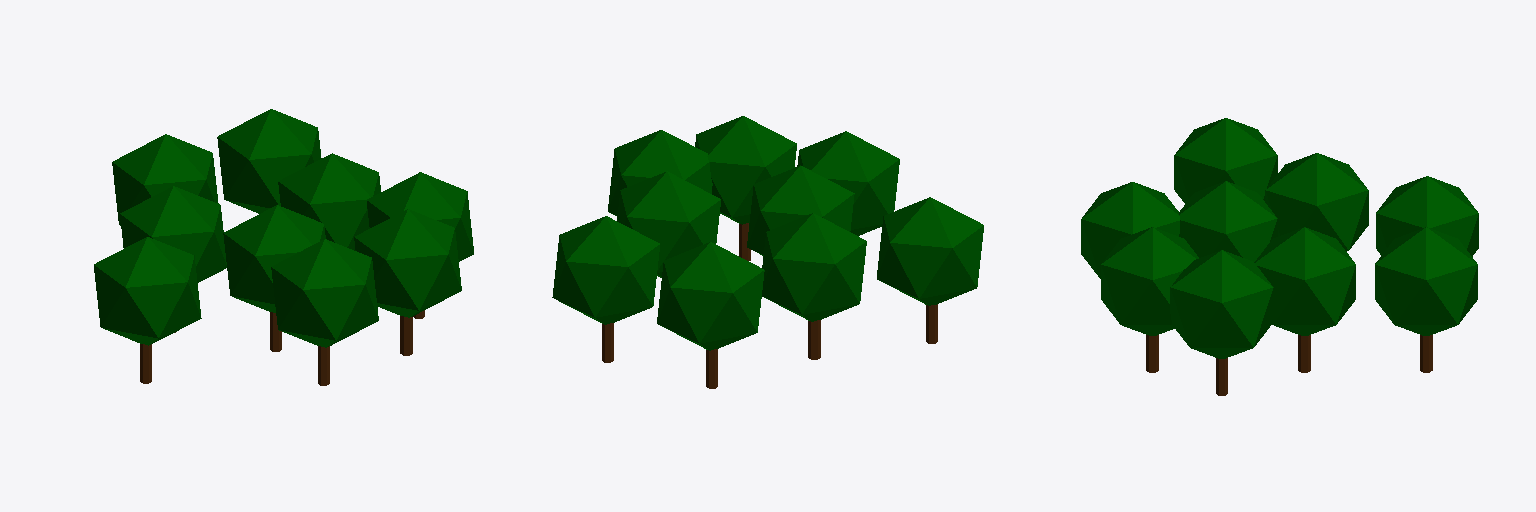
Rendered from Low-poly-tree.obj.
3 views of the same model, side by side, from view 1: azimuth 30°, elevation 25°; view 2: azimuth 150°, elevation 25°; view 3: azimuth 270°, elevation 25° (orthographic).
Parts seen in each view (by area): view 1: Icosphere.002, Icosphere.008_Icosphere.002, Icosphere_Icosphere.002, Icosphere.007_Icosphere.002, Icosphere.003_Icosphere.002, Icosphere.006_Icosphere.002, Icosphere.005_Icosphere.002, Icosphere.004_Icosphere.002, Icosphere.001_Icosphere.002; view 2: Icosphere.007_Icosphere.002, Icosphere.004_Icosphere.002, Icosphere.008_Icosphere.002, Icosphere.005_Icosphere.002, Icosphere.006_Icosphere.002, Icosphere_Icosphere.002, Icosphere.002, Icosphere.003_Icosphere.002, Icosphere.001_Icosphere.002; view 3: Icosphere.007_Icosphere.002, Icosphere.001_Icosphere.002, Icosphere.006_Icosphere.002, Icosphere_Icosphere.002, Icosphere.005_Icosphere.002, Icosphere.008_Icosphere.002, Icosphere.003_Icosphere.002, Icosphere.004_Icosphere.002, Icosphere.002.
Boxes of the visible parts, <box> form: Icosphere.002: <box>271,239,378,347</box>; Icosphere.008_Icosphere.002: <box>94,237,201,345</box>; Icosphere_Icosphere.002: <box>354,209,461,317</box>; Icosphere.007_Icosphere.002: <box>217,109,321,213</box>; Icosphere.003_Icosphere.002: <box>223,205,325,312</box>; Icosphere.006_Icosphere.002: <box>278,153,380,250</box>; Icosphere.005_Icosphere.002: <box>120,186,226,282</box>; Icosphere.004_Icosphere.002: <box>112,134,218,225</box>; Icosphere.001_Icosphere.002: <box>367,172,473,261</box>; Icosphere.007_Icosphere.002: <box>552,216,659,324</box>; Icosphere.004_Icosphere.002: <box>657,242,764,350</box>; Icosphere.008_Icosphere.002: <box>877,197,983,305</box>; Icosphere.005_Icosphere.002: <box>762,213,866,321</box>; Icosphere.006_Icosphere.002: <box>617,171,720,277</box>; Icosphere_Icosphere.002: <box>695,116,796,224</box>; Icosphere.002: <box>797,131,899,235</box>; Icosphere.003_Icosphere.002: <box>747,165,854,255</box>; Icosphere.001_Icosphere.002: <box>608,130,712,215</box>; Icosphere.007_Icosphere.002: <box>1375,227,1477,335</box>; Icosphere.001_Icosphere.002: <box>1170,250,1273,358</box>; Icosphere.006_Icosphere.002: <box>1254,227,1355,335</box>; Icosphere_Icosphere.002: <box>1101,227,1198,335</box>; Icosphere.005_Icosphere.002: <box>1265,153,1368,251</box>; Icosphere.008_Icosphere.002: <box>1174,118,1277,203</box>; Icosphere.003_Icosphere.002: <box>1179,181,1277,261</box>; Icosphere.004_Icosphere.002: <box>1376,176,1478,256</box>; Icosphere.002: <box>1081,182,1179,278</box>.
Size of the model in its own units: 4737 by 1793 by 4473.